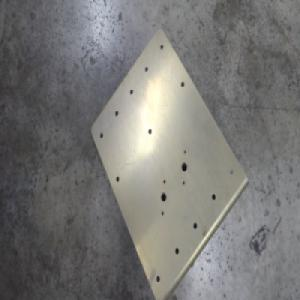MetalSheet: (89, 26, 248, 300)
